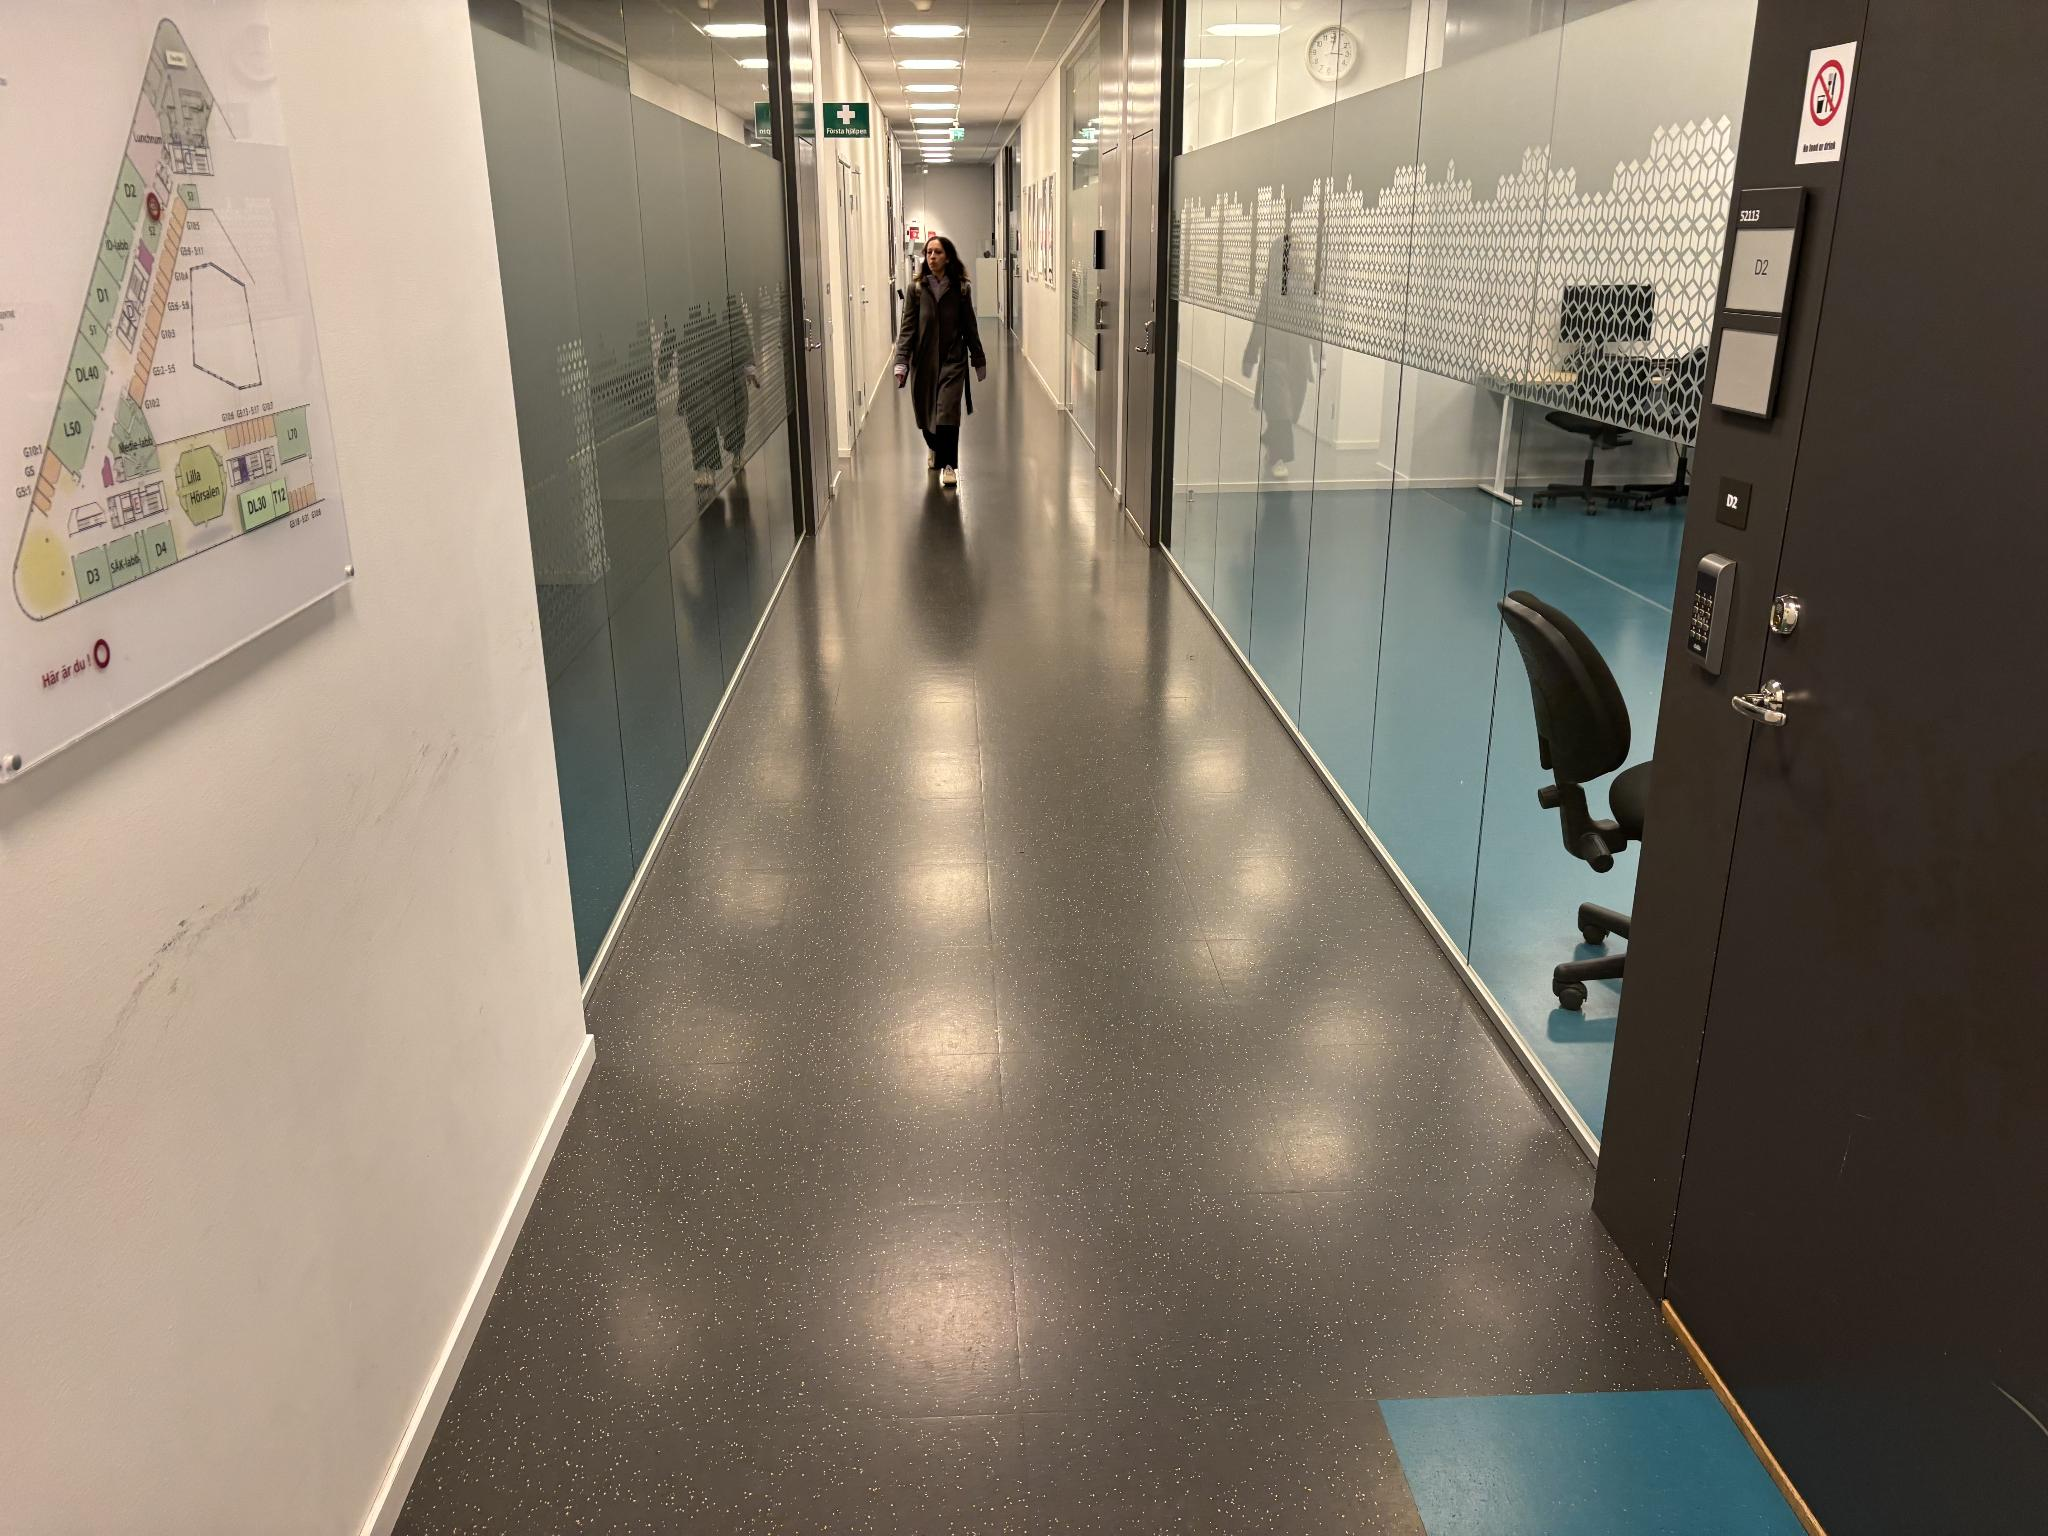person: (893, 238, 987, 485)
